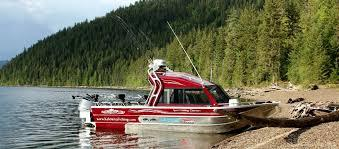fishing boat: (70, 53, 282, 134)
